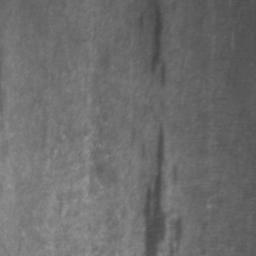Inclusion: (143, 131, 166, 256), (151, 1, 164, 72)
